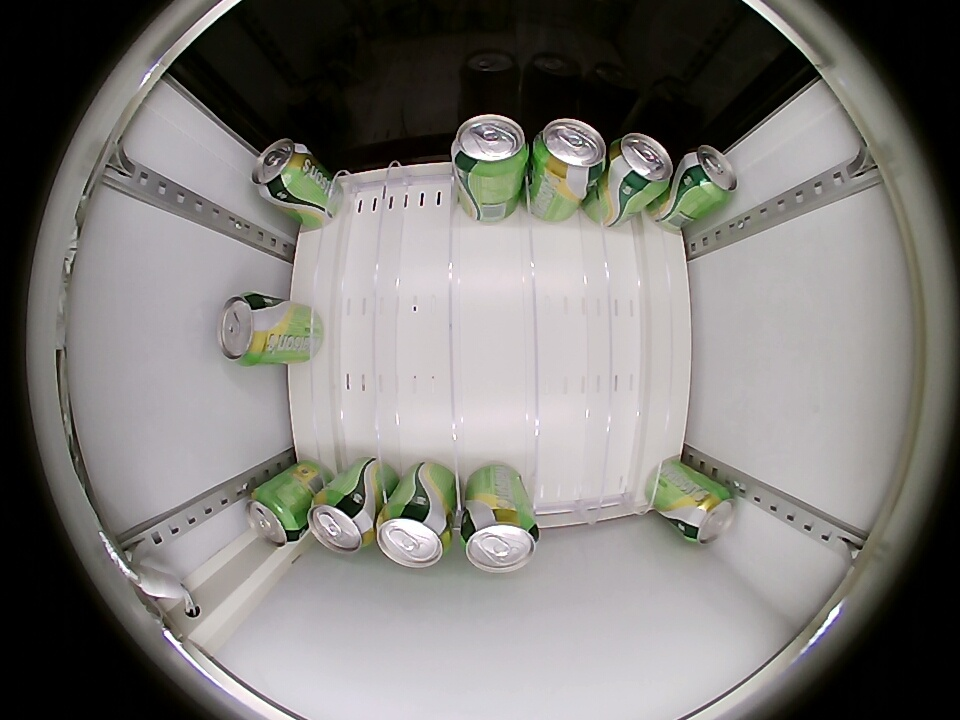quchenshixiangcao: (461, 507, 539, 573), (451, 115, 529, 180), (376, 505, 453, 568), (532, 119, 607, 183), (308, 492, 374, 554), (608, 133, 674, 192), (252, 138, 309, 202), (218, 293, 268, 365), (246, 485, 304, 546), (683, 482, 737, 545), (682, 144, 739, 203)
